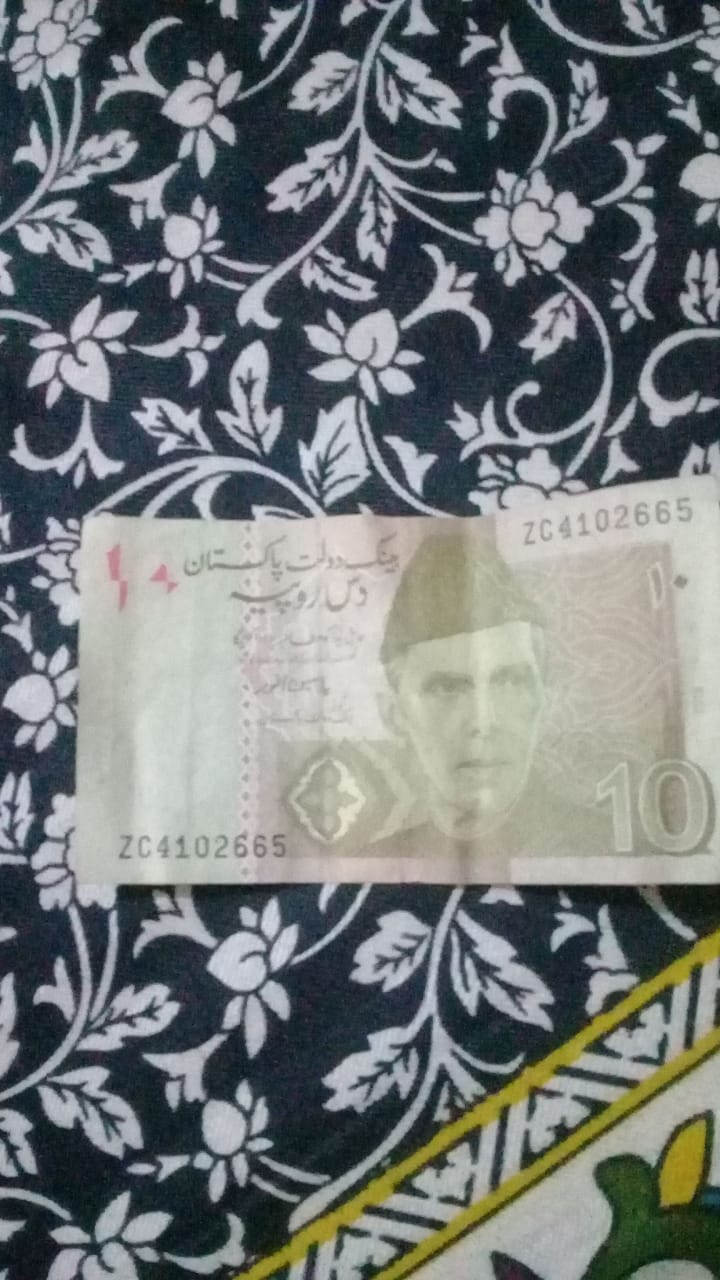10 rupee: (63, 474, 714, 940)
